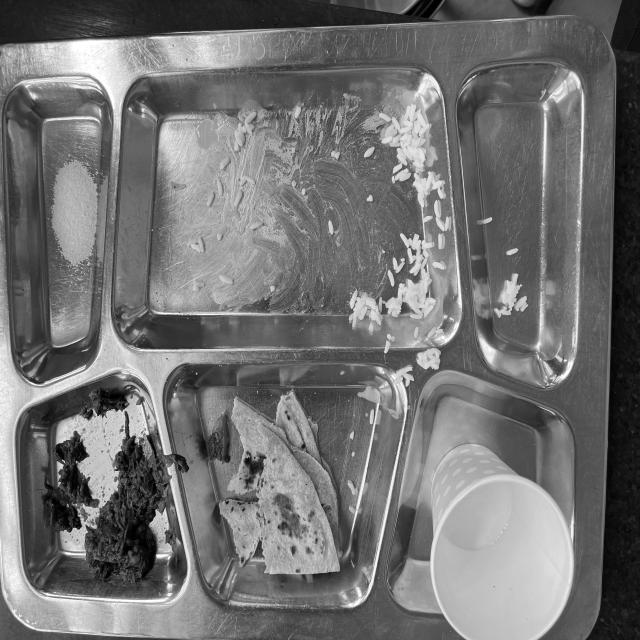20-Food-Left: (4, 49, 590, 640)
